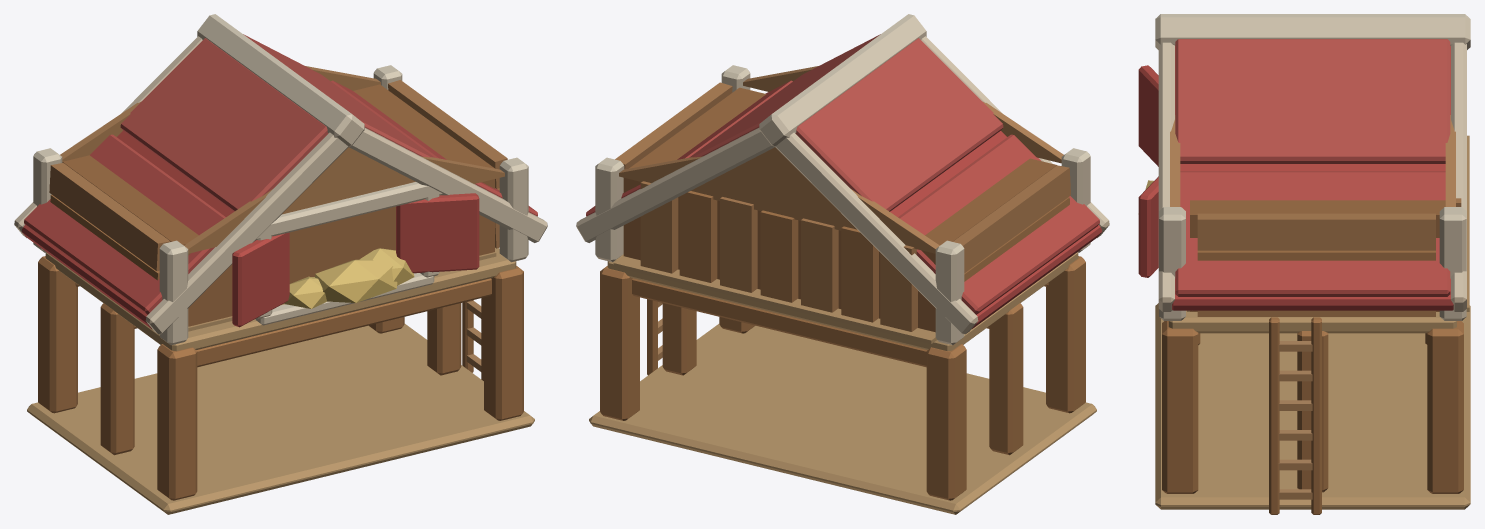
File: ranch_barn_loft.fbx
The picture shows the model from 3 angles, left to right: view 1: azimuth 30°, elevation 25°; view 2: azimuth 150°, elevation 25°; view 3: azimuth 270°, elevation 25°; orthographic projection. The views are drawn at different scales.
Visible parts, largest first — view 1: ranch_barn_loft; view 2: ranch_barn_loft; view 3: ranch_barn_loft.
Part boxes in pixels (box(x1,y1,x2,y2)): ranch_barn_loft: box(14, 14, 547, 514); ranch_barn_loft: box(576, 14, 1109, 514); ranch_barn_loft: box(1138, 14, 1470, 514).
Size of the model in its own units: 13.3 by 11.35 by 8.64.
